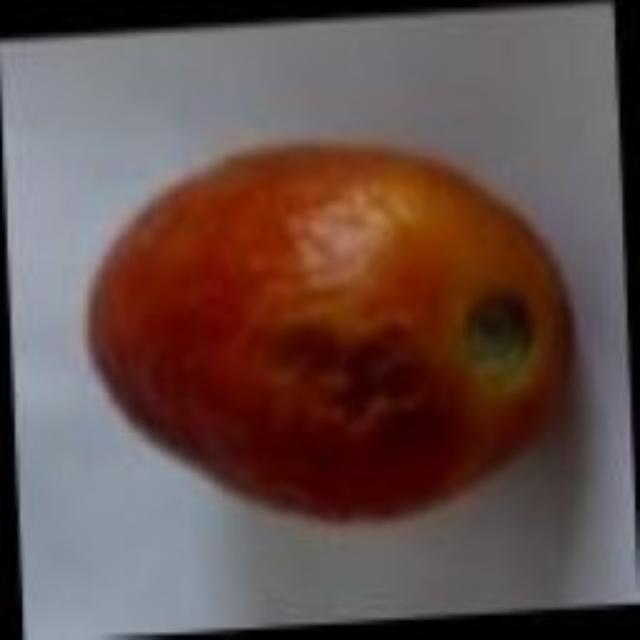defect: (73, 135, 585, 532)
